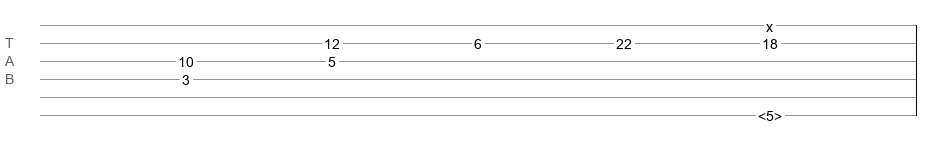10: (178, 54, 194, 64)
12: (324, 36, 340, 46)
18: (762, 36, 778, 46)
22: (616, 36, 632, 46)
3: (182, 72, 190, 82)
5: (328, 54, 336, 64)
6: (474, 36, 482, 46)
harmonic: (758, 108, 782, 118)
x: (766, 19, 773, 27)
